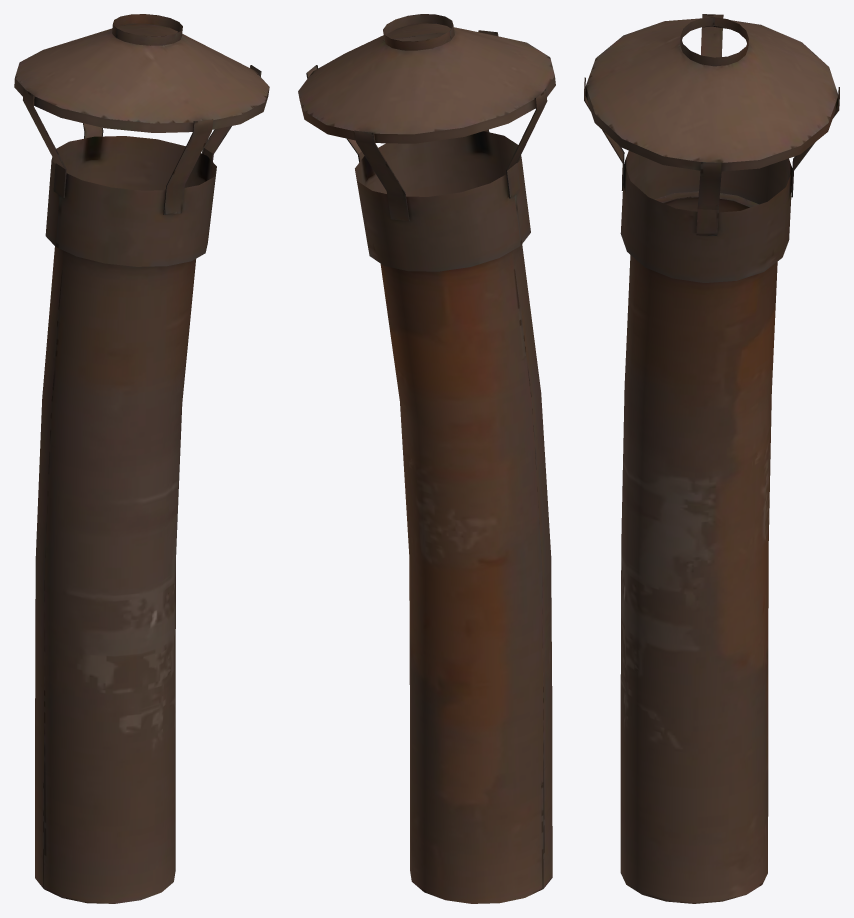
3 views of the same model, side by side, from view 1: azimuth 30°, elevation 25°; view 2: azimuth 150°, elevation 25°; view 3: azimuth 270°, elevation 25° (orthographic). The views are drawn at different scales.
Visible parts, largest first — view 1: body0_model0_lod0_mesh0; view 2: body0_model0_lod0_mesh0; view 3: body0_model0_lod0_mesh0.
Boxes of the visible parts, x1,y1,x2,y2 form: body0_model0_lod0_mesh0: (14,14,269,903); body0_model0_lod0_mesh0: (298,14,555,903); body0_model0_lod0_mesh0: (584,14,839,903).
Size of the model in its own units: 52.02 by 182 by 48.58.
Materials: 1 (1 with a texture image).
